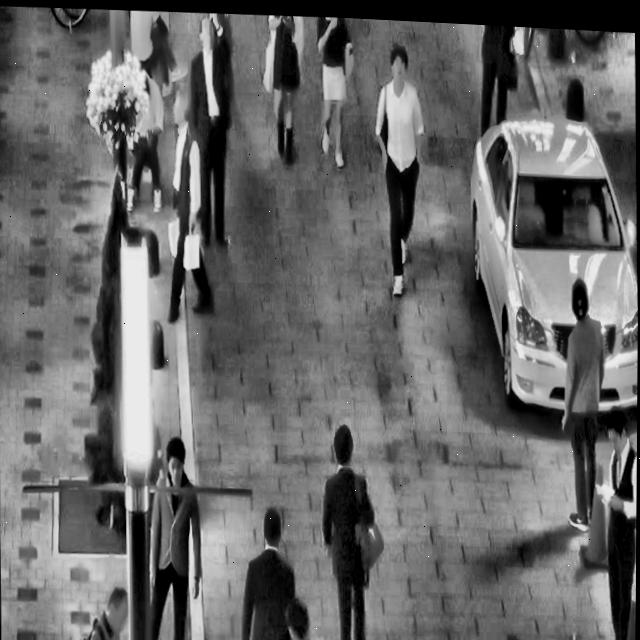light_vehicle: (461, 87, 640, 420)
